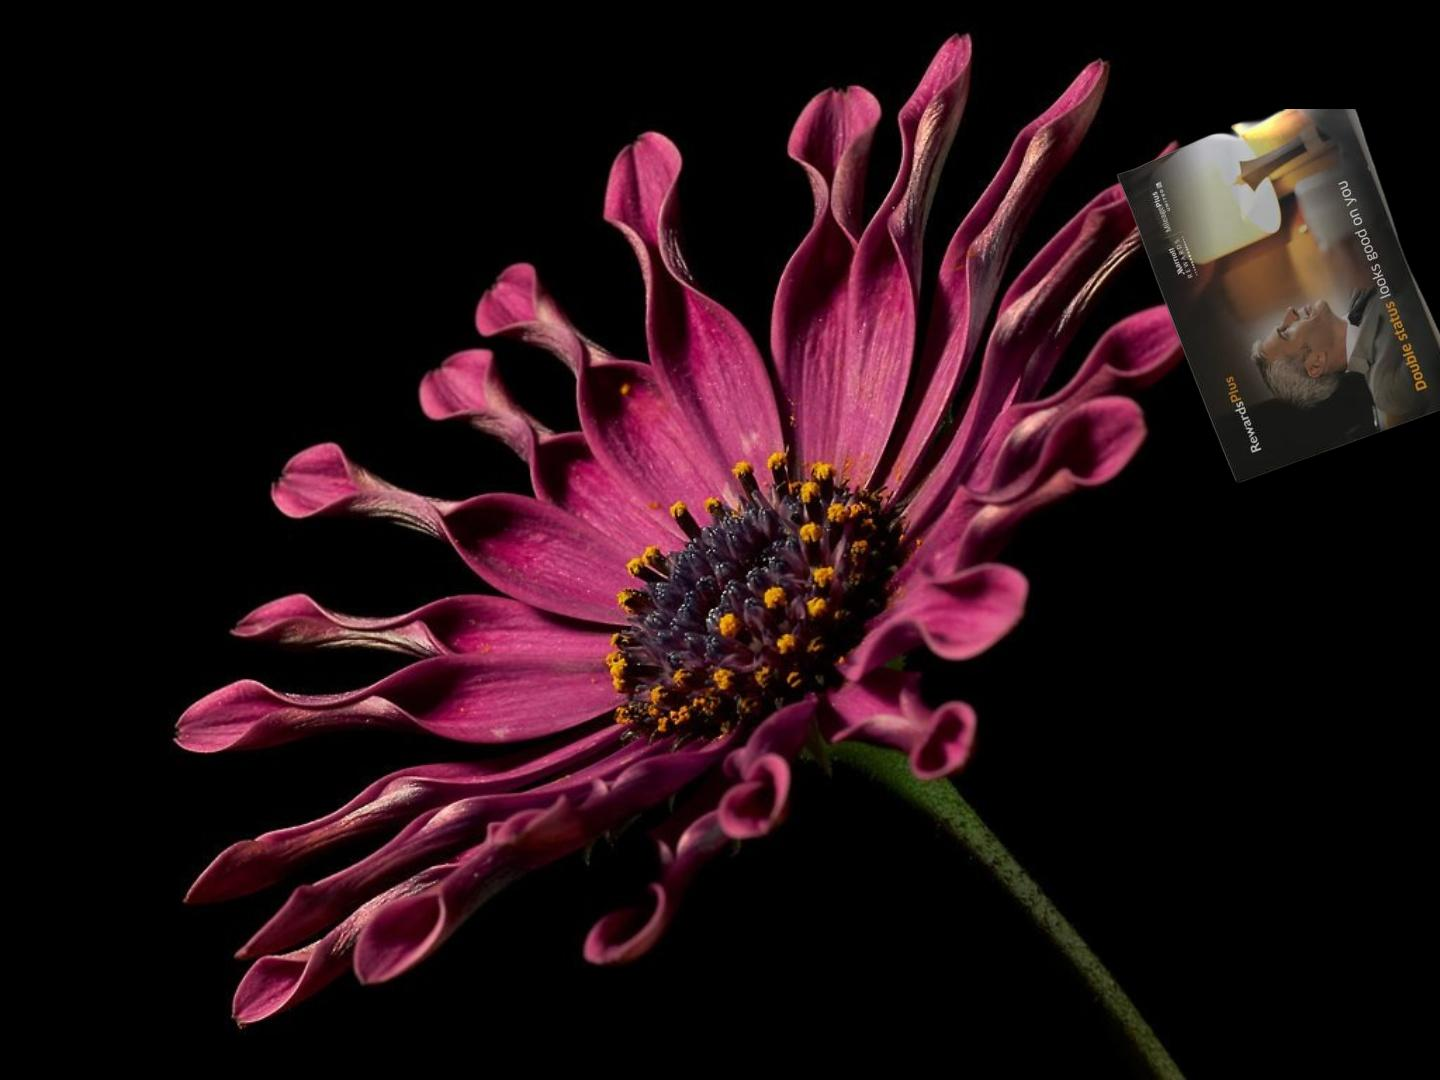paper: (1116, 109, 1440, 486)
